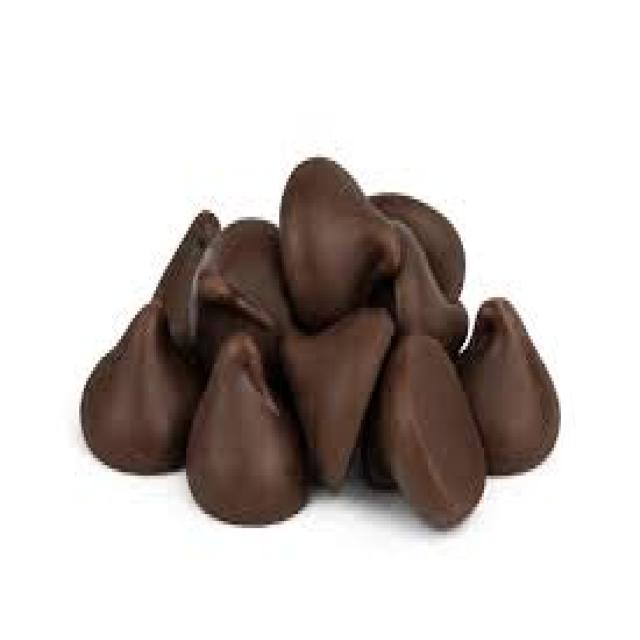Chocolate: (80, 154, 561, 536)
